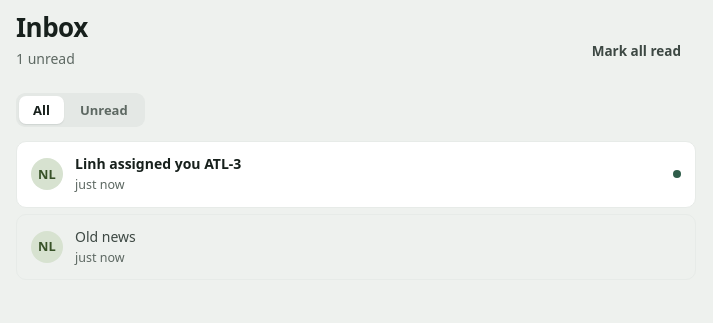
InboxPage › lists notifications, filters unread and marks all read
The image size is (713, 323).
Check: the text "1 unread" is shown, box [16,49,75,68]
What coordinates should you click on to do the following:
click the tab "Unread"
I would click on:
 (104, 110)
Its box is [66,96,142,124].
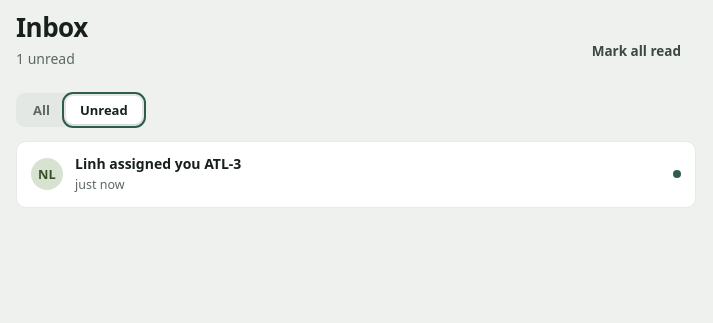
Check: the button "Old news" is gone
What coordinates should you click on to do the following:
click the button "Mark all read"
I would click on:
 (636, 52)
Its box is [577,35,696,69].
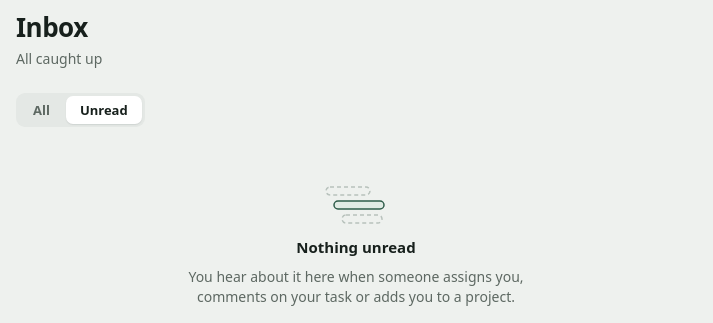
Check: the text "All caught up" is shown, box [16,49,102,69]
Check: the heading "Nothing unread" is shown, box [296,237,416,259]
